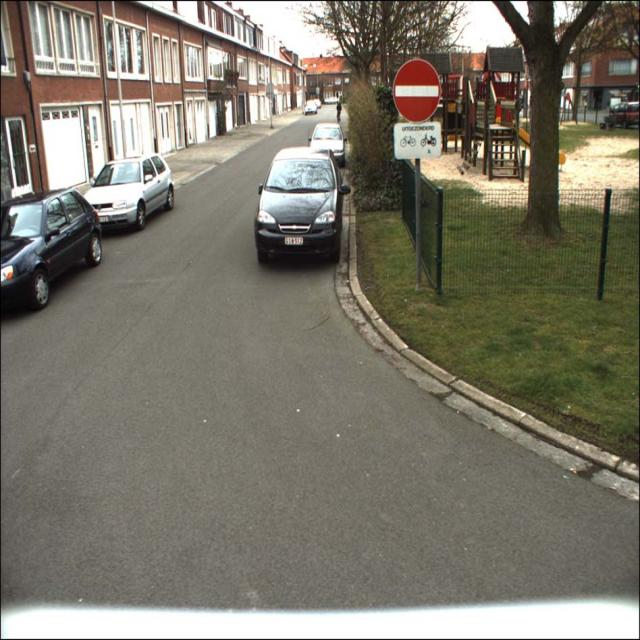girisyok: (392, 59, 440, 122)
